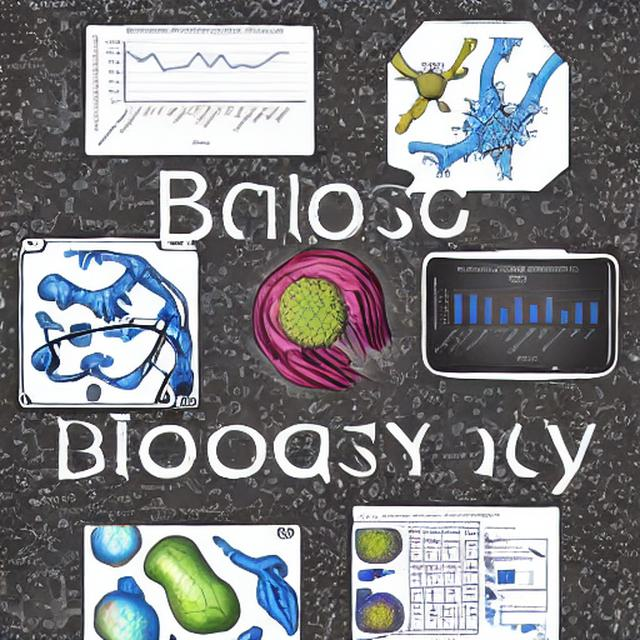Graph: (87, 27, 310, 151), (429, 260, 607, 367)
